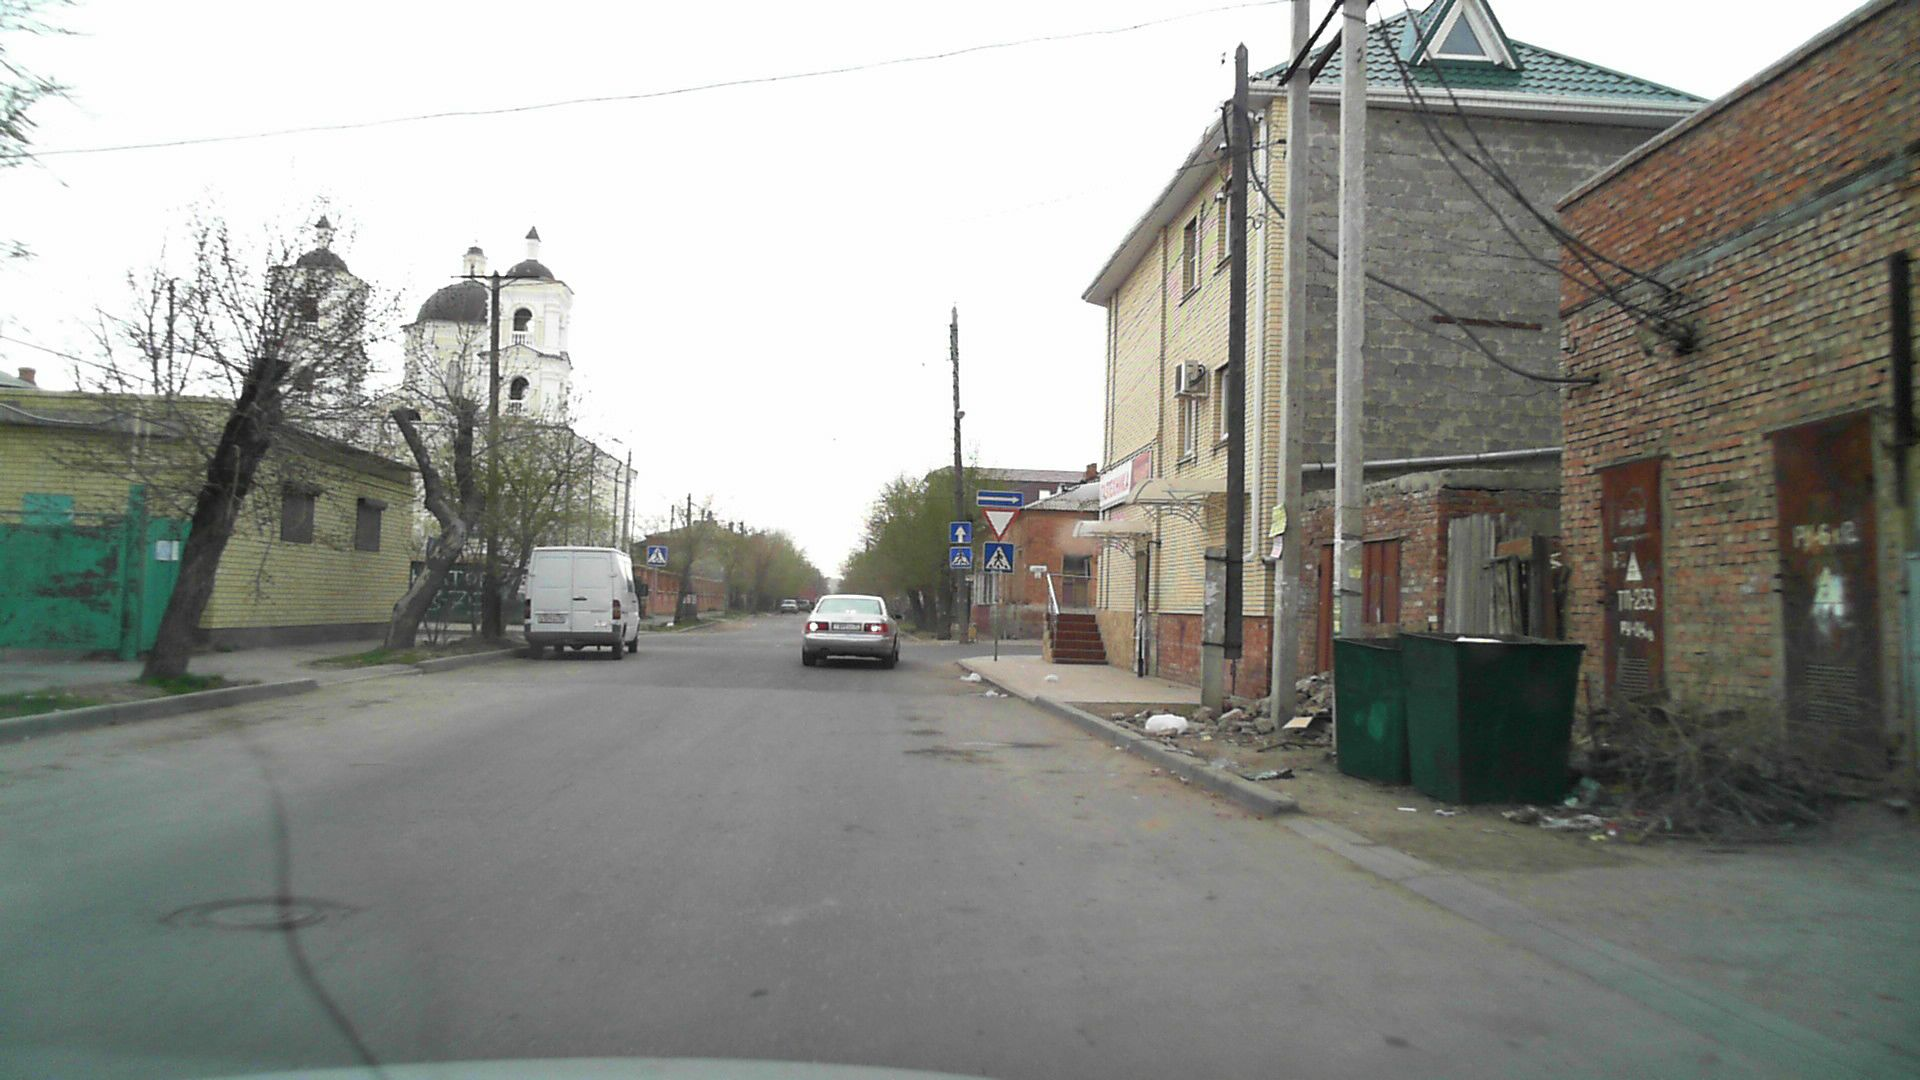One-Way Traffic: (976, 491, 1025, 508)
Pedestrian Crossing: (984, 543, 1014, 572)
